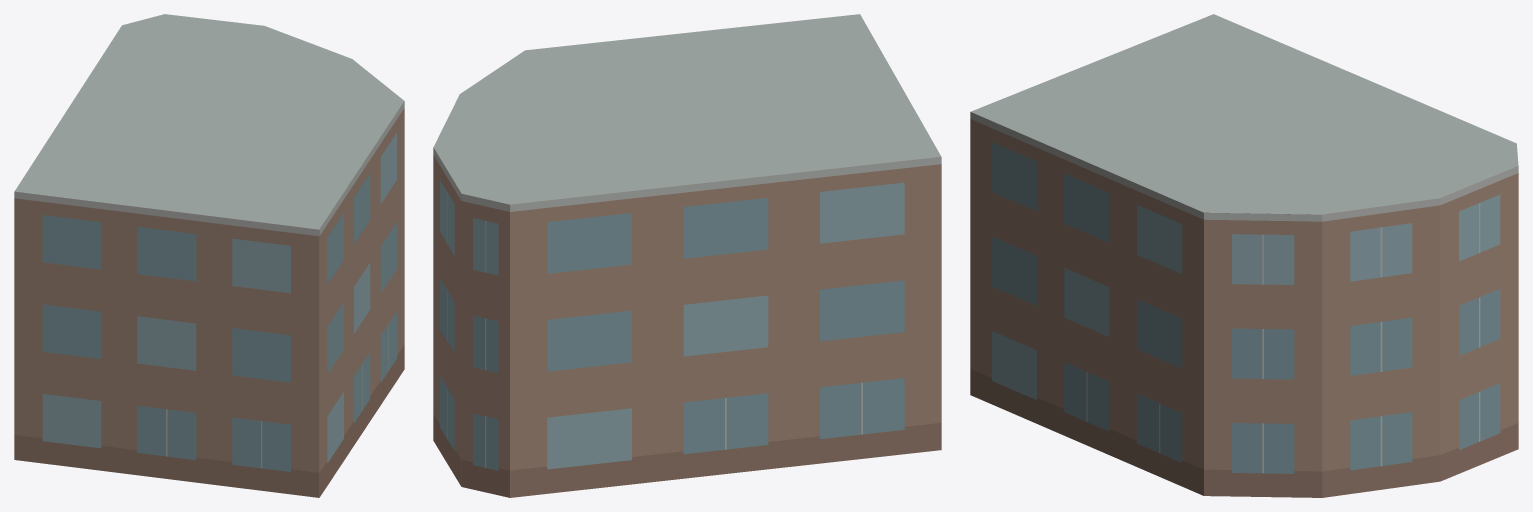
The model's file is survey-upis-32759561.glb.
3 views of the same model, side by side, from view 1: azimuth 30°, elevation 25°; view 2: azimuth 150°, elevation 25°; view 3: azimuth 270°, elevation 25° (orthographic). The views are drawn at different scales.
Parts seen in each view (by area): view 1: survey-upis-32759561.tmp; view 2: survey-upis-32759561.tmp; view 3: survey-upis-32759561.tmp.
Boxes of the visible parts, <box> form: survey-upis-32759561.tmp: <box>14,14,404,497</box>; survey-upis-32759561.tmp: <box>433,14,941,497</box>; survey-upis-32759561.tmp: <box>970,14,1518,497</box>.
Size of the model in its own units: 14.9 by 9.8 by 17.2.
